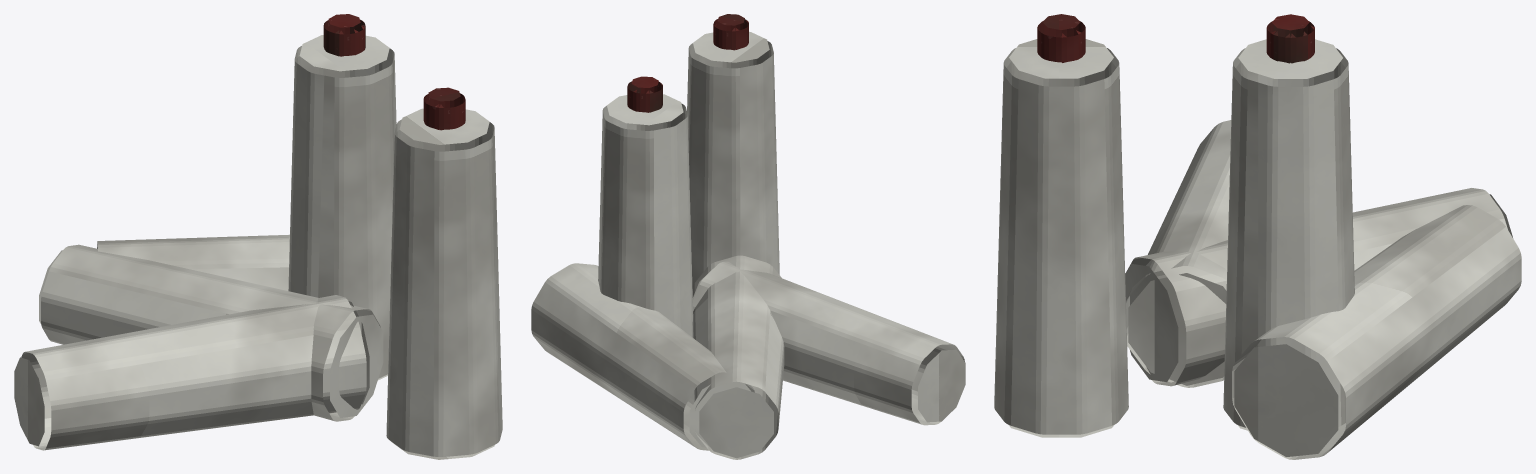
The model's file is D07_plastic_bottles_v2.glb.
3 views of the same model, side by side, from view 1: azimuth 30°, elevation 25°; view 2: azimuth 150°, elevation 25°; view 3: azimuth 270°, elevation 25° (orthographic). The views are drawn at different scales.
Visible parts, largest first — view 1: D07_plastic_bottles_v2; view 2: D07_plastic_bottles_v2; view 3: D07_plastic_bottles_v2.
Boxes of the visible parts, left/top/right/bottom form: D07_plastic_bottles_v2: left=14, top=14, right=502, bottom=459; D07_plastic_bottles_v2: left=531, top=14, right=965, bottom=459; D07_plastic_bottles_v2: left=994, top=14, right=1521, bottom=459.
Size of the model in its own units: 0.2998 by 0.2182 by 0.2672.
2 materials, 2 textured.
